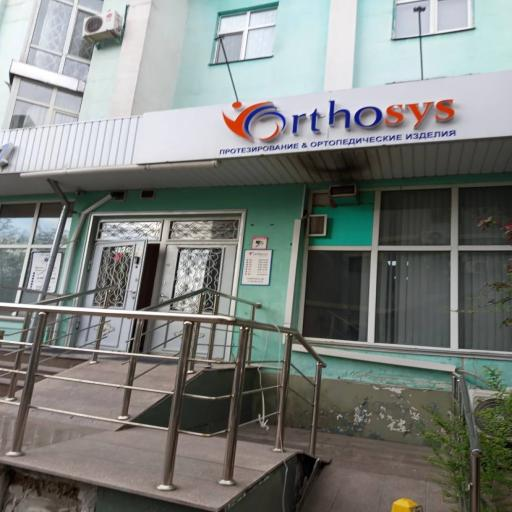corridor: (160, 244, 236, 301), (84, 241, 147, 309)
pole: (1, 351, 467, 512)
